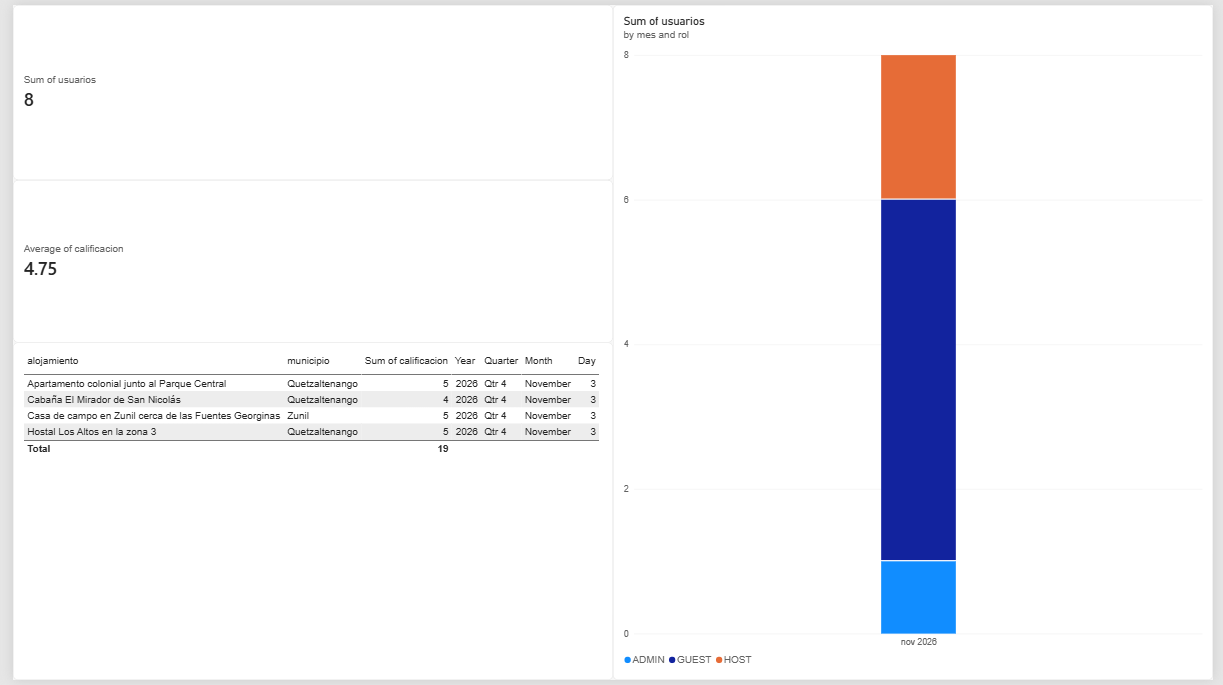

The dashboard page shown, as its layout file describes it:
{"tool":"powerbi","page":{"name":"Usuarios y Reseñas","canvas":[1920,1080],"ordinal":3},"visuals":[{"type":"columnChart","fields":{"Category":["bi usuarios_por_mes_y_rol.mes"],"Series":["bi usuarios_por_mes_y_rol.rol"],"Y":["Sum(bi usuarios_por_mes_y_rol.usuarios)"]},"box":[960,0,960,1080],"z":0},{"type":"tableEx","fields":{"Values":["bi alojamientos_mejor_calificados.alojamiento","bi alojamientos_mejor_calificados.municipio","Sum(bi alojamientos_mejor_calificados.calificacion)","bi alojamientos_mejor_calificados.fecha_resena.Variation.Date Hierarchy.Year","bi alojamientos_mejor_calificados.fecha_resena.Variation.Date Hierarchy.Quarter","bi alojamientos_mejor_calificados.fecha_resena.Variation.Date Hierarchy.Month","bi alojamientos_mejor_calificados.fecha_resena.Variation.Date Hierarchy.Day"]},"box":[0,540,960,540],"z":1},{"type":"cardVisual","fields":{"Data":["Sum(bi usuarios_por_mes_y_rol.usuarios)"]},"box":[0,0,960,280],"z":2},{"type":"cardVisual","fields":{"Data":["Avg(bi alojamientos_mejor_calificados.calificacion)"]},"box":[0,280,960,260],"z":3}]}

Visuals, with their boxes in screenshot pixels (x1, y1, x2, y2), scaled from the page's 1920x1080 canvas onto the 1223x685 screenshot:
columnChart - bi usuarios_por_mes_y_rol.mes x bi usuarios_por_mes_y_rol.rol: l=612, t=0, r=1222, b=684
tableEx - bi alojamientos_mejor_calificados.alojamiento x bi alojamientos_mejor_calificados.municipio: l=0, t=342, r=612, b=684
cardVisual - Sum(bi usuarios_por_mes_y_rol.usuarios): l=0, t=0, r=612, b=178
cardVisual - Avg(bi alojamientos_mejor_calificados.calificacion): l=0, t=178, r=612, b=342
